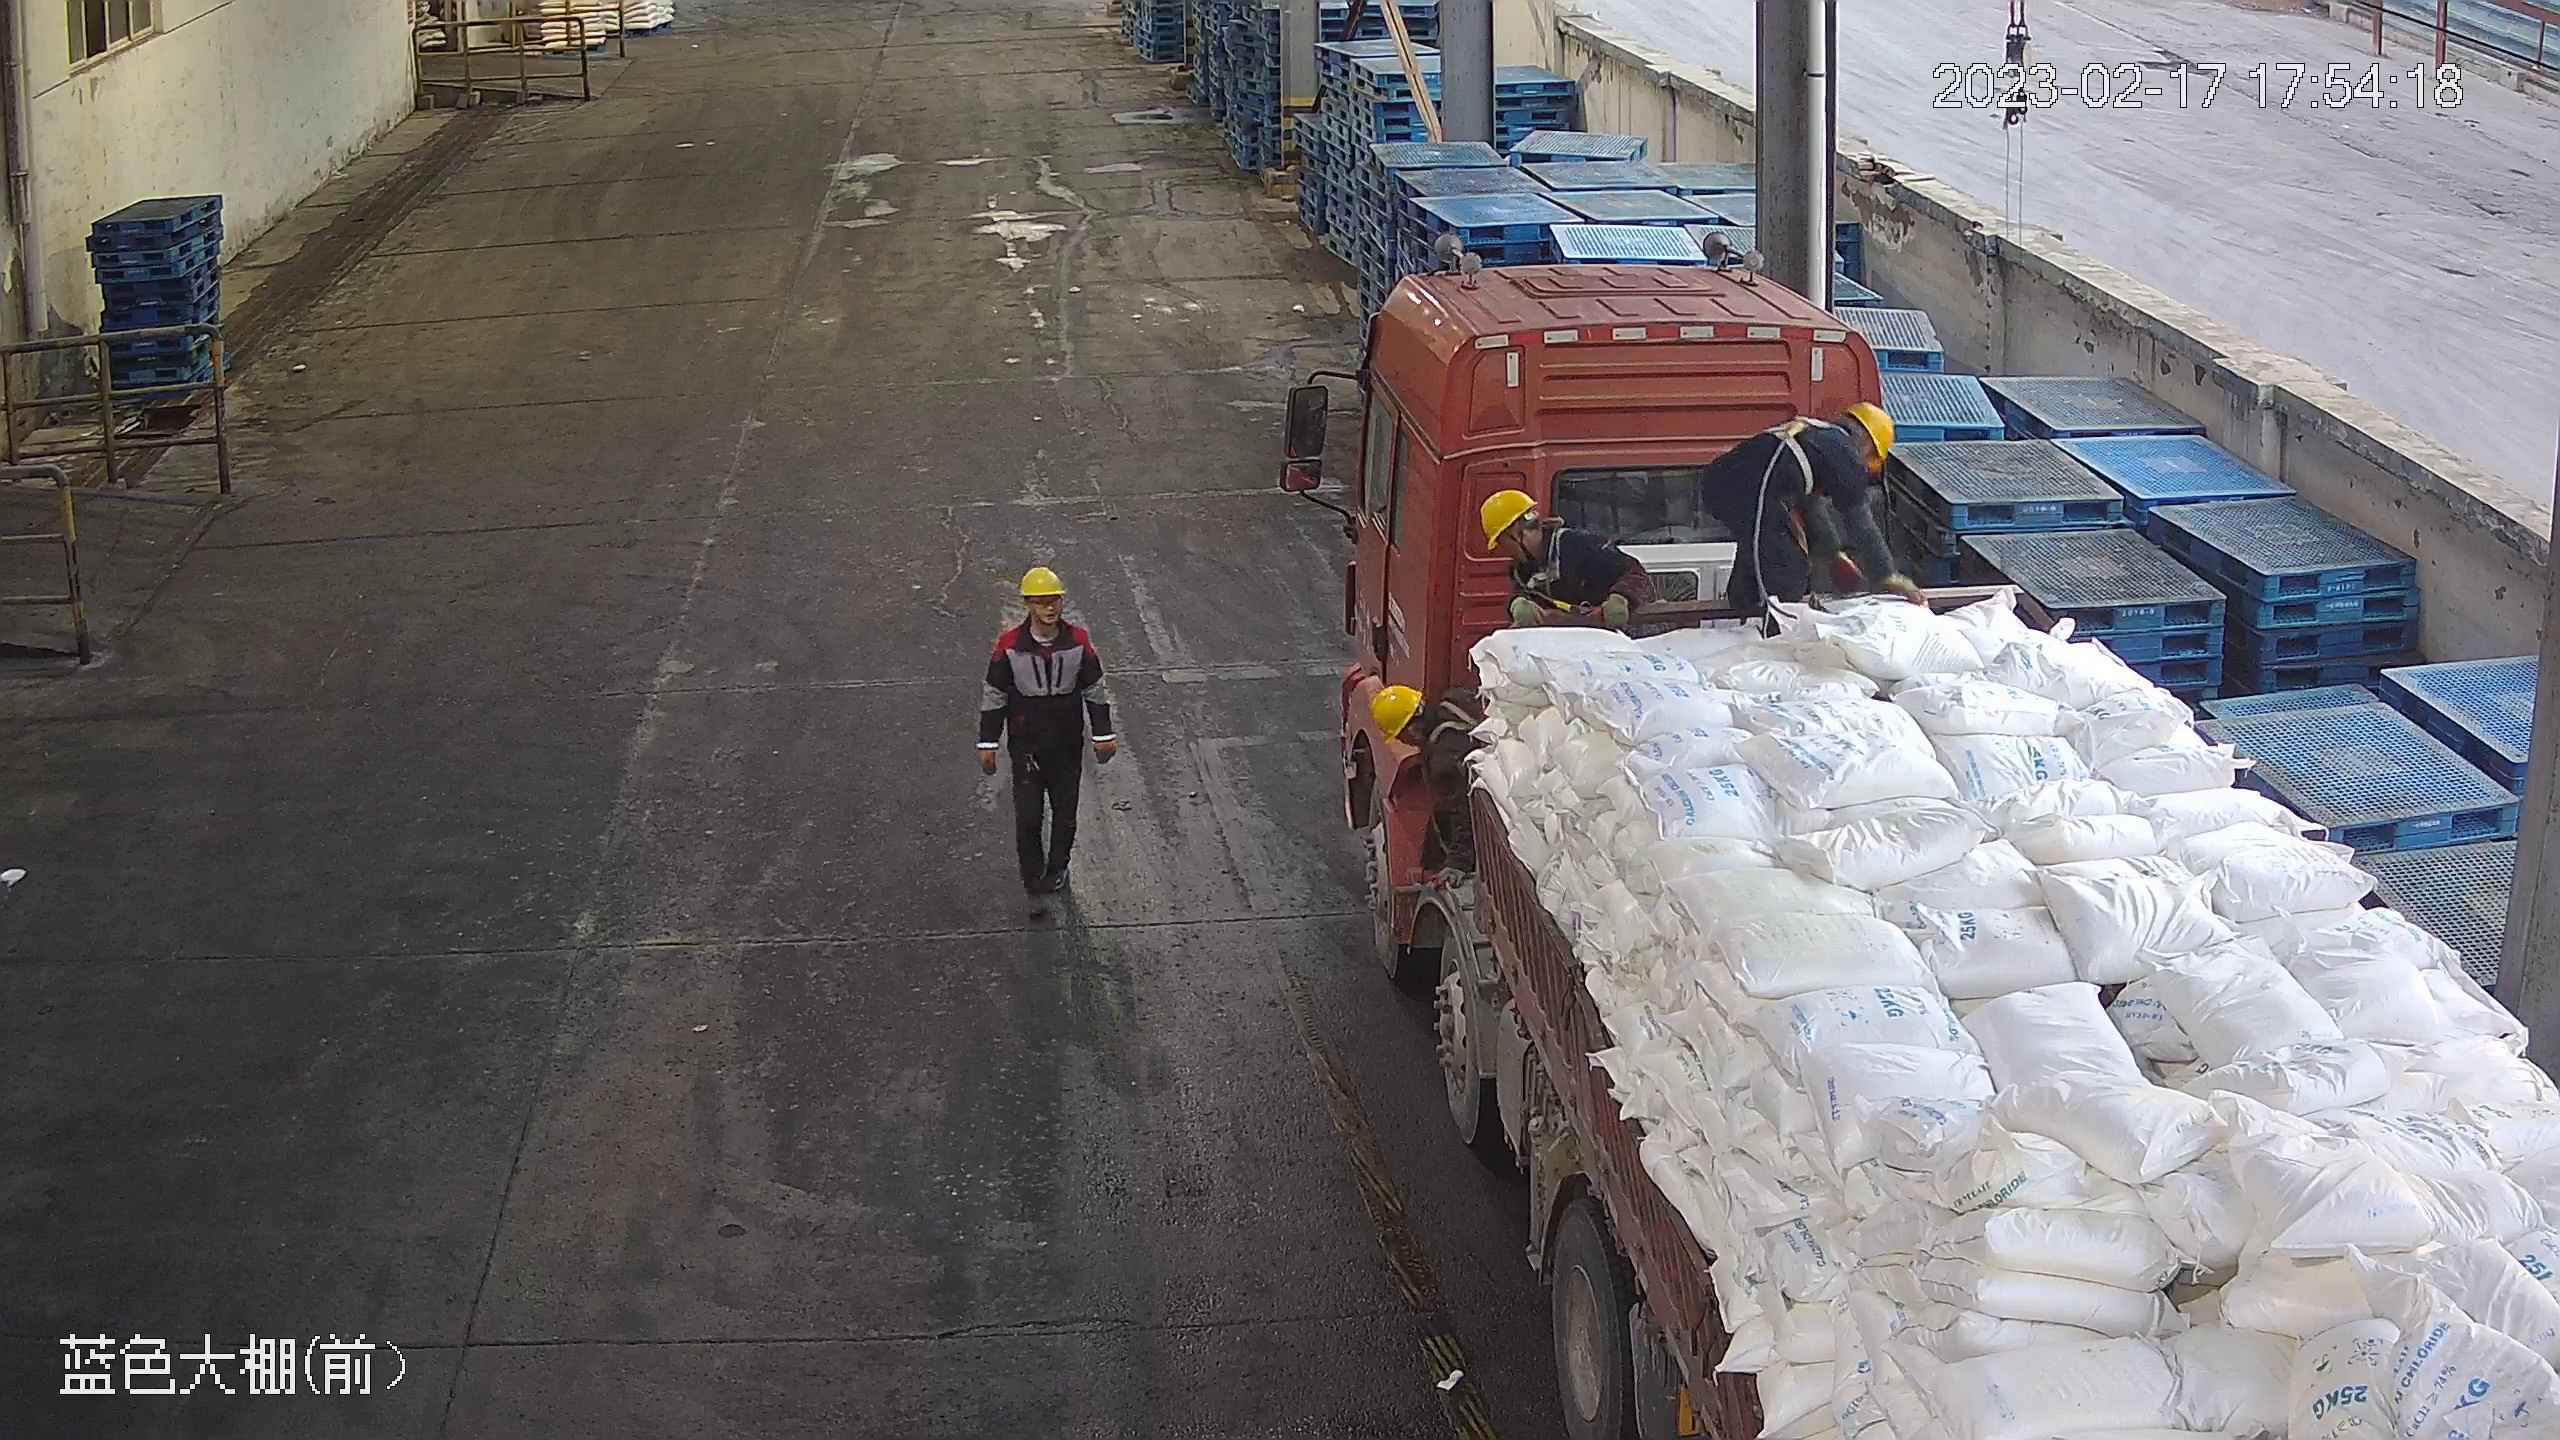belt: (1758, 402, 1842, 501), (1516, 528, 1573, 589), (1426, 702, 1477, 745)
head: (1473, 484, 1639, 601), (1779, 398, 1895, 506), (990, 566, 1103, 671)
helmet: (1477, 484, 1539, 552), (1842, 401, 1897, 472), (1368, 683, 1420, 749), (1015, 564, 1066, 600)
people: (1698, 400, 1915, 637), (979, 566, 1116, 911)
truck: (1283, 227, 2559, 1439)
